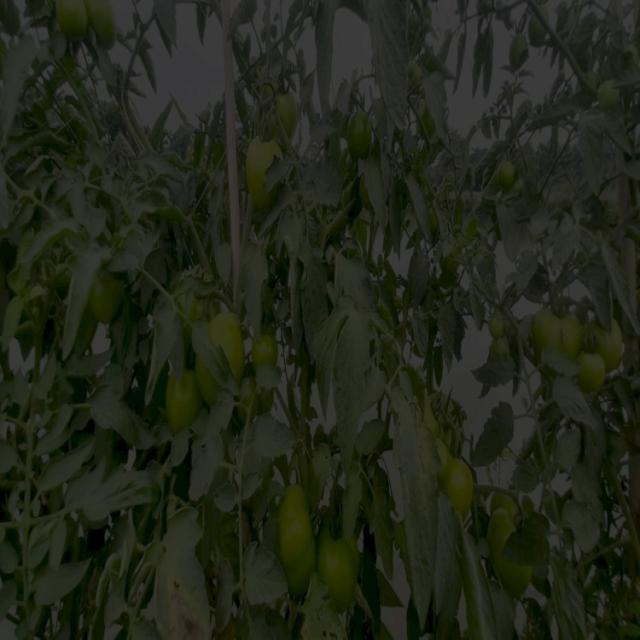tomato: (423, 401, 481, 518), (487, 494, 540, 595), (54, 1, 134, 56), (283, 484, 316, 593), (245, 137, 288, 216), (321, 535, 366, 606), (149, 281, 207, 334), (211, 312, 242, 409), (155, 366, 199, 432), (89, 266, 131, 334), (536, 301, 579, 352), (498, 155, 534, 203), (592, 71, 629, 117), (485, 314, 517, 359), (350, 107, 376, 159), (277, 83, 306, 129), (609, 321, 632, 371), (256, 334, 283, 375), (440, 250, 468, 288), (421, 210, 451, 241), (581, 353, 604, 391), (532, 7, 553, 47), (244, 382, 261, 423), (507, 36, 527, 69), (410, 61, 425, 85)
